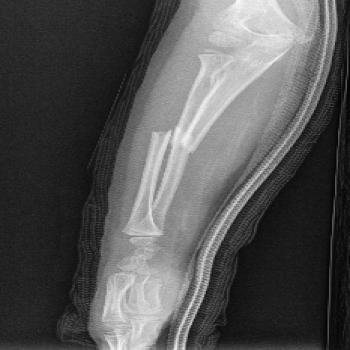Fracture: (149, 120, 205, 156)
